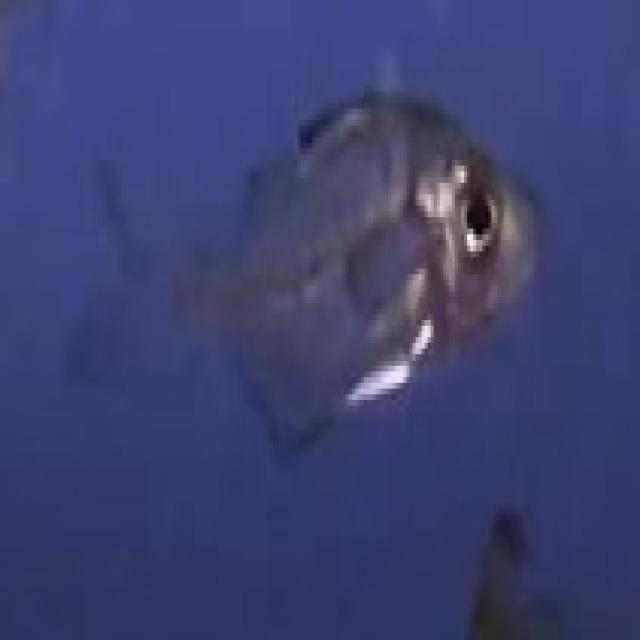Glass-Perchlet: (34, 47, 624, 484)
